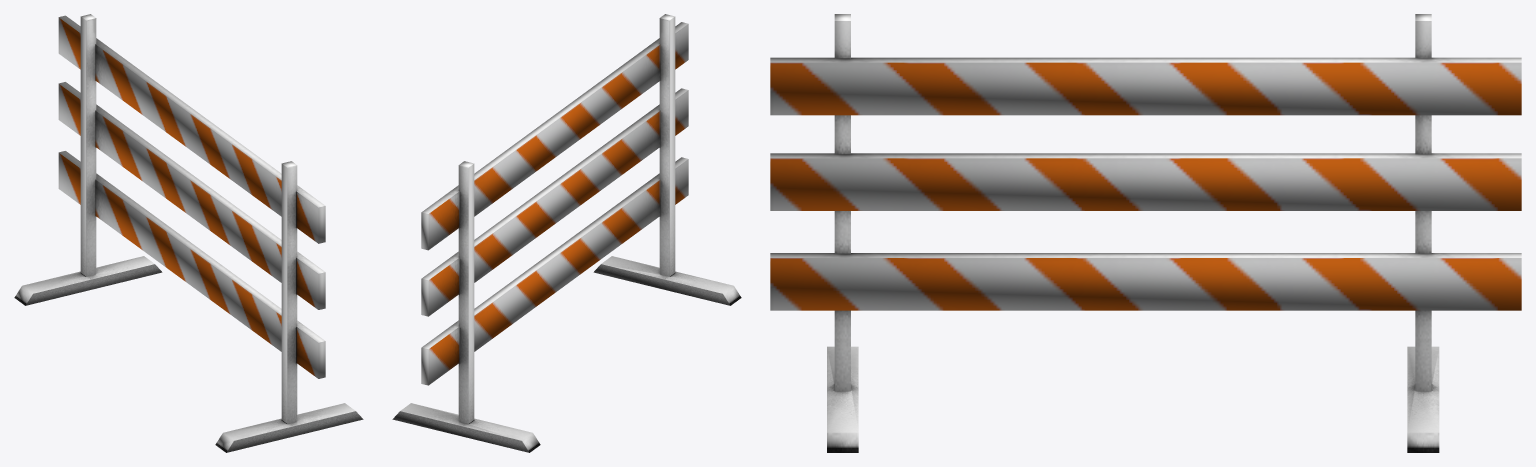
Rendered from BlockStripe.fbx.
3 views of the same model, side by side, from view 1: azimuth 30°, elevation 25°; view 2: azimuth 150°, elevation 25°; view 3: azimuth 270°, elevation 25° (orthographic). The views are drawn at different scales.
Visible parts, largest first — view 1: Road-Block-Wide; view 2: Road-Block-Wide; view 3: Road-Block-Wide.
Part boxes in pixels (bbox=[...]): Road-Block-Wide: bbox=[14, 14, 363, 452]; Road-Block-Wide: bbox=[392, 14, 741, 452]; Road-Block-Wide: bbox=[770, 14, 1521, 452].
Bounding box in the file's own units: 12.33 × 22.98 × 40.44.
